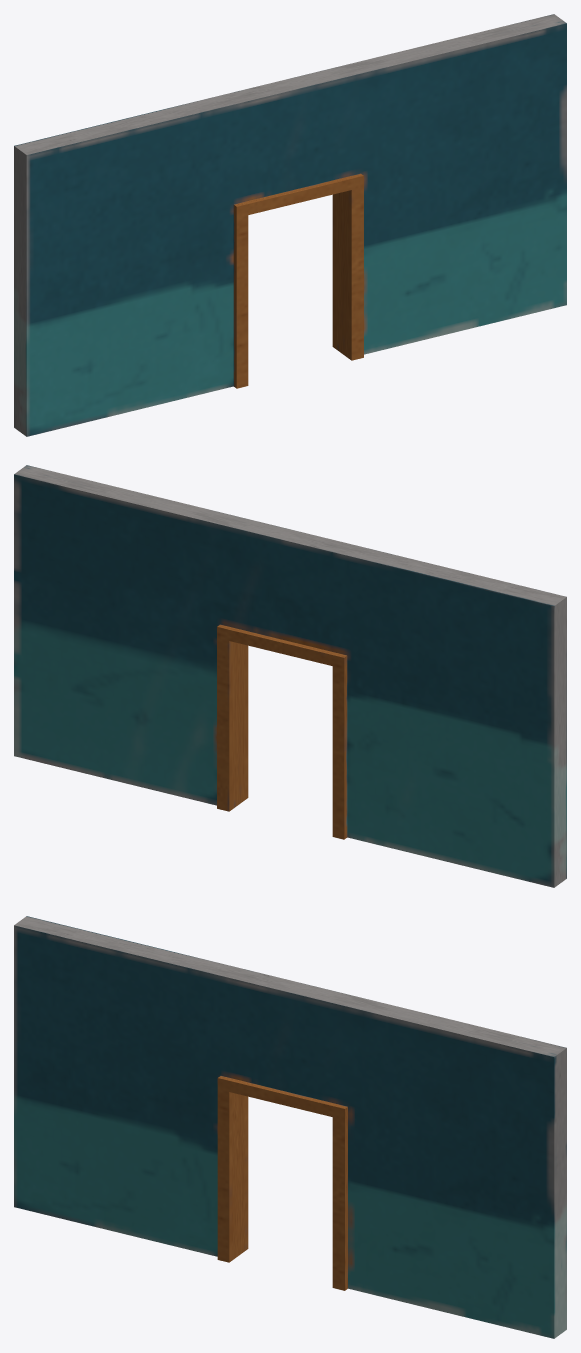
Rendered from Door_Internal_Wall.fbx.
The picture shows the model from 3 angles, top to bottom: view 1: azimuth 30°, elevation 25°; view 2: azimuth 150°, elevation 25°; view 3: azimuth 330°, elevation 25°; orthographic projection.
Parts seen in each view (by area): view 1: Door_Internal_Wall; view 2: Door_Internal_Wall; view 3: Door_Internal_Wall.
Part boxes in pixels (x1,y1,x2,y2): Door_Internal_Wall: (14,14,566,436); Door_Internal_Wall: (14,465,566,887); Door_Internal_Wall: (14,916,566,1338).
Bounding box in the file's own units: 401 × 200 × 24.48.
